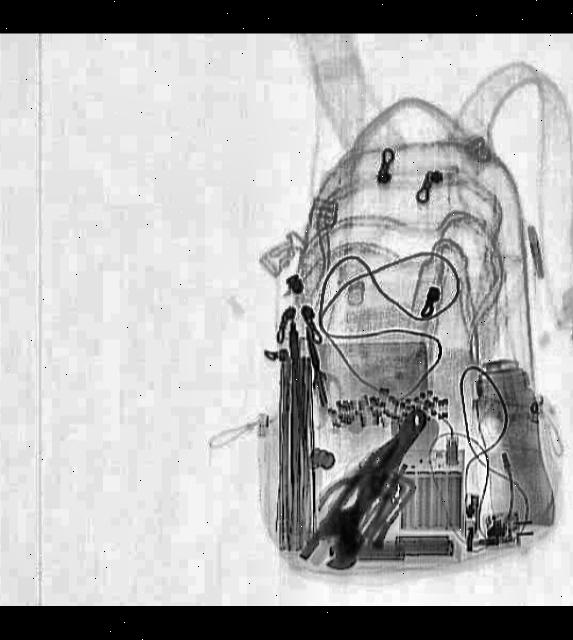Wrench: (302, 394, 436, 576)
